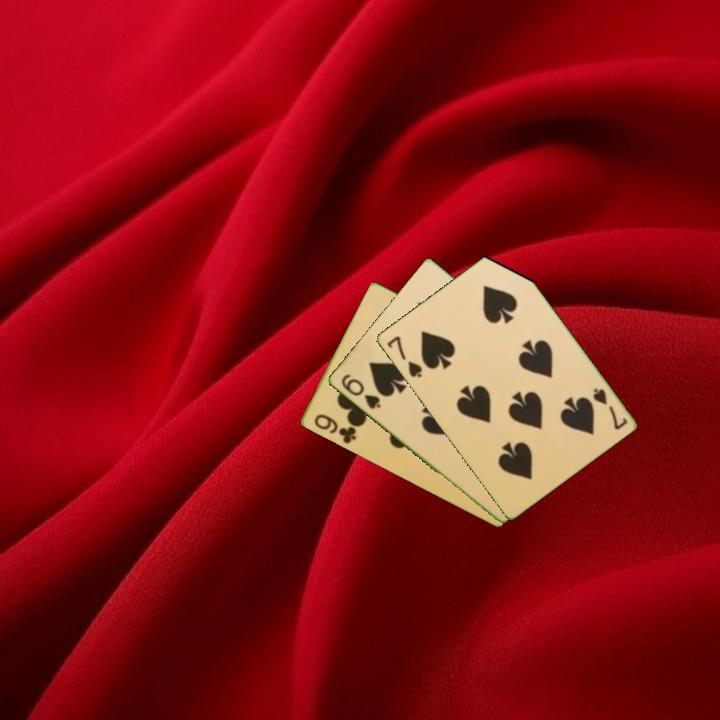6s: (337, 370, 384, 412)
7s: (383, 332, 425, 381), (589, 384, 630, 433)
9c: (310, 410, 359, 447)
